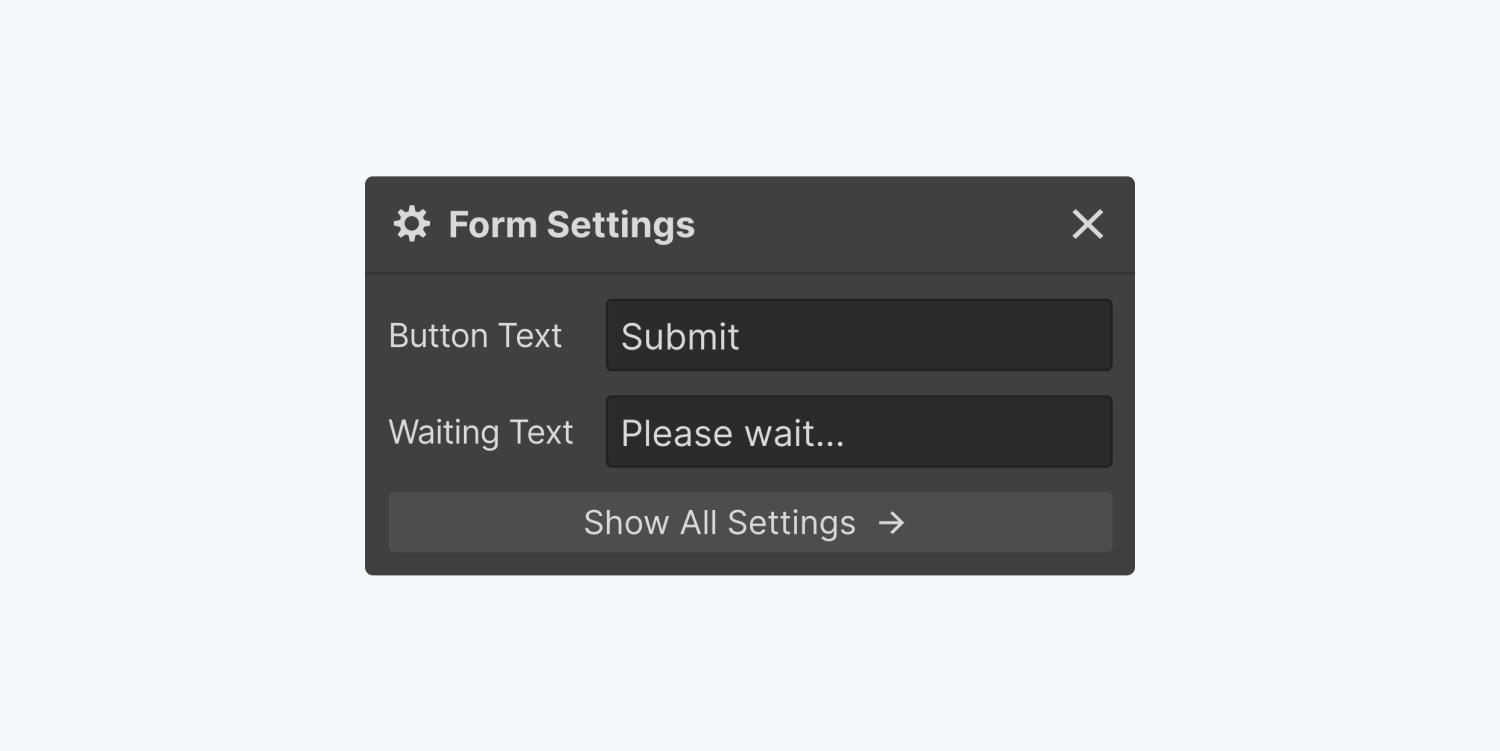button: (386, 487, 1120, 558)
icon: (393, 204, 433, 242), (1072, 205, 1108, 243)
input: (603, 295, 1118, 378), (605, 391, 1121, 473)
label: (449, 205, 699, 247), (383, 316, 569, 360), (389, 412, 577, 455)
